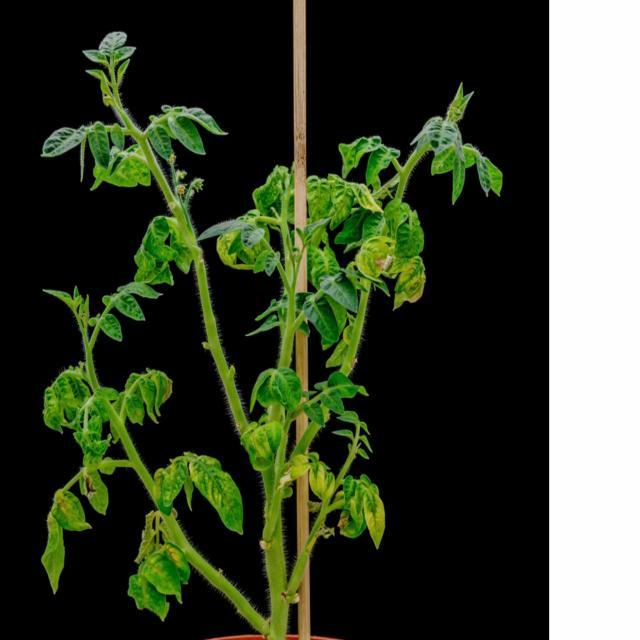tomato: (35, 31, 507, 640)
